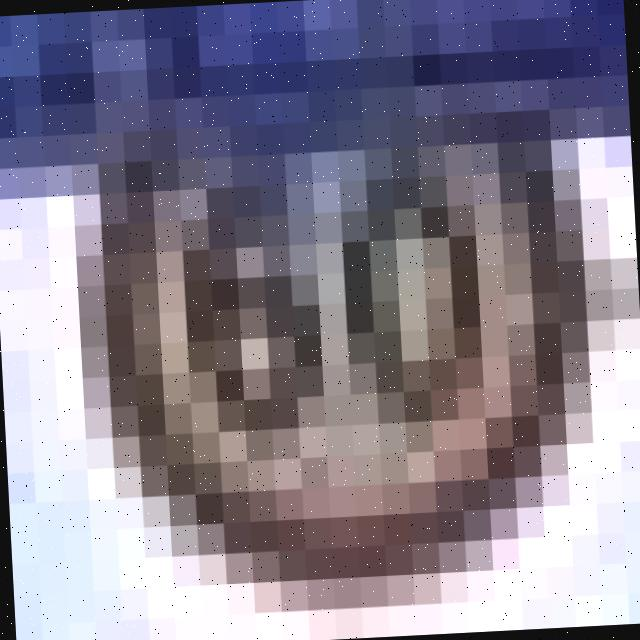Ograniczenie predkosci do 60: (41, 79, 572, 562)
